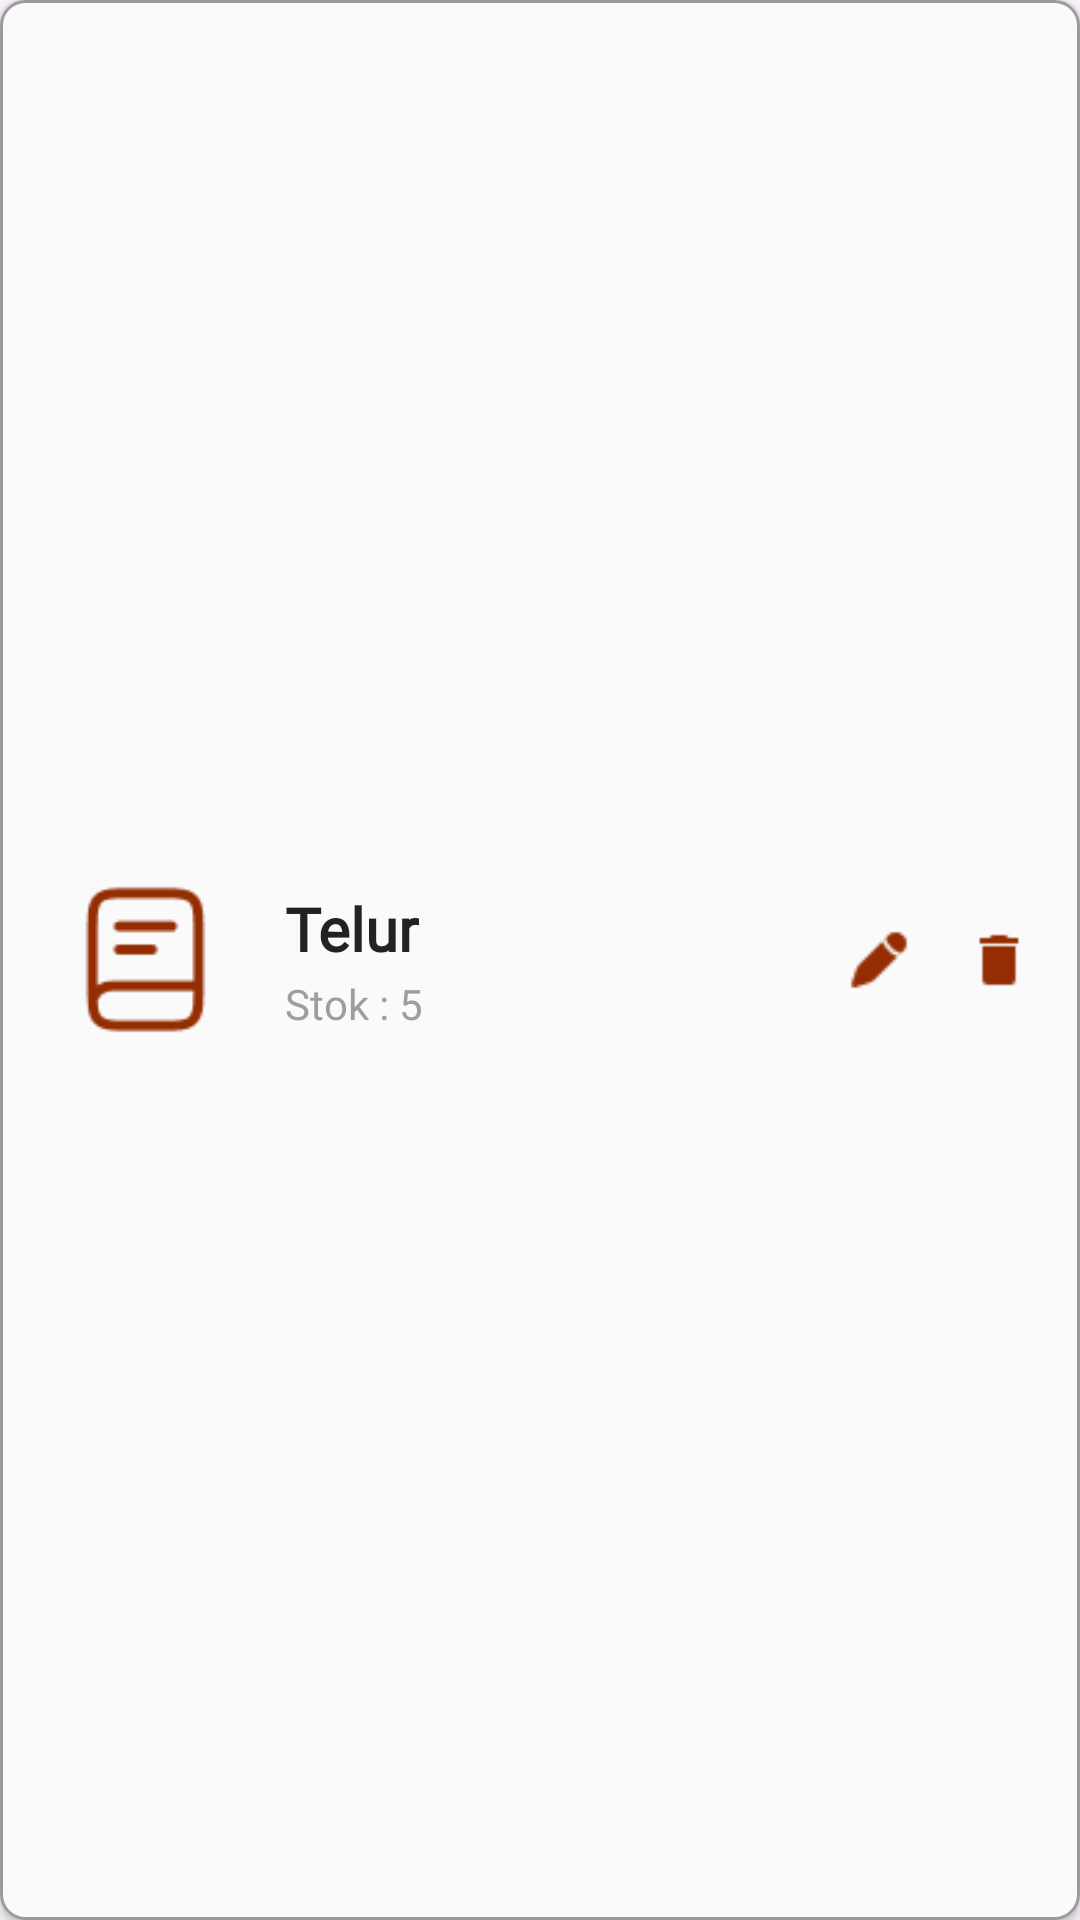

Icons on this 1080 x 1920 Android screen, each with its box as BBox(x1, y1, x2, y2):
pen: BBox(850, 931, 908, 989)
trash: BBox(979, 934, 1019, 986)
